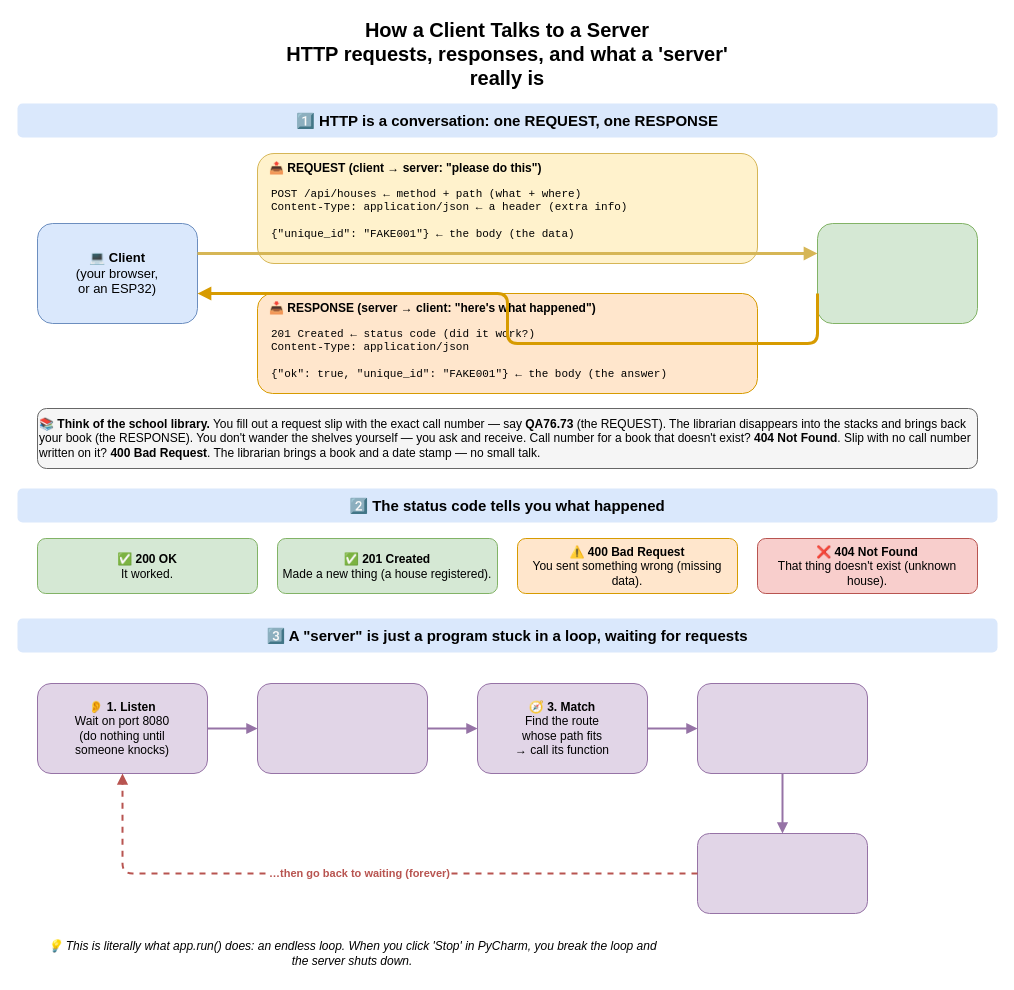
Some shapes in this 1014 by 990 pixel diagram are drawn without their labels. Each missing label, with the centre of its shape:
"⚙️ 4. Run The function reads/ writes the HOUSES dict" goes at (782,728).
"🐍 Server (Flask app.py on the laptop)" goes at (897,273).
"📤 5. Respond Send back status code + JSON body" goes at (782,873).
"📨 2. Receive A request arrives (method + path + body)" goes at (342,728).
